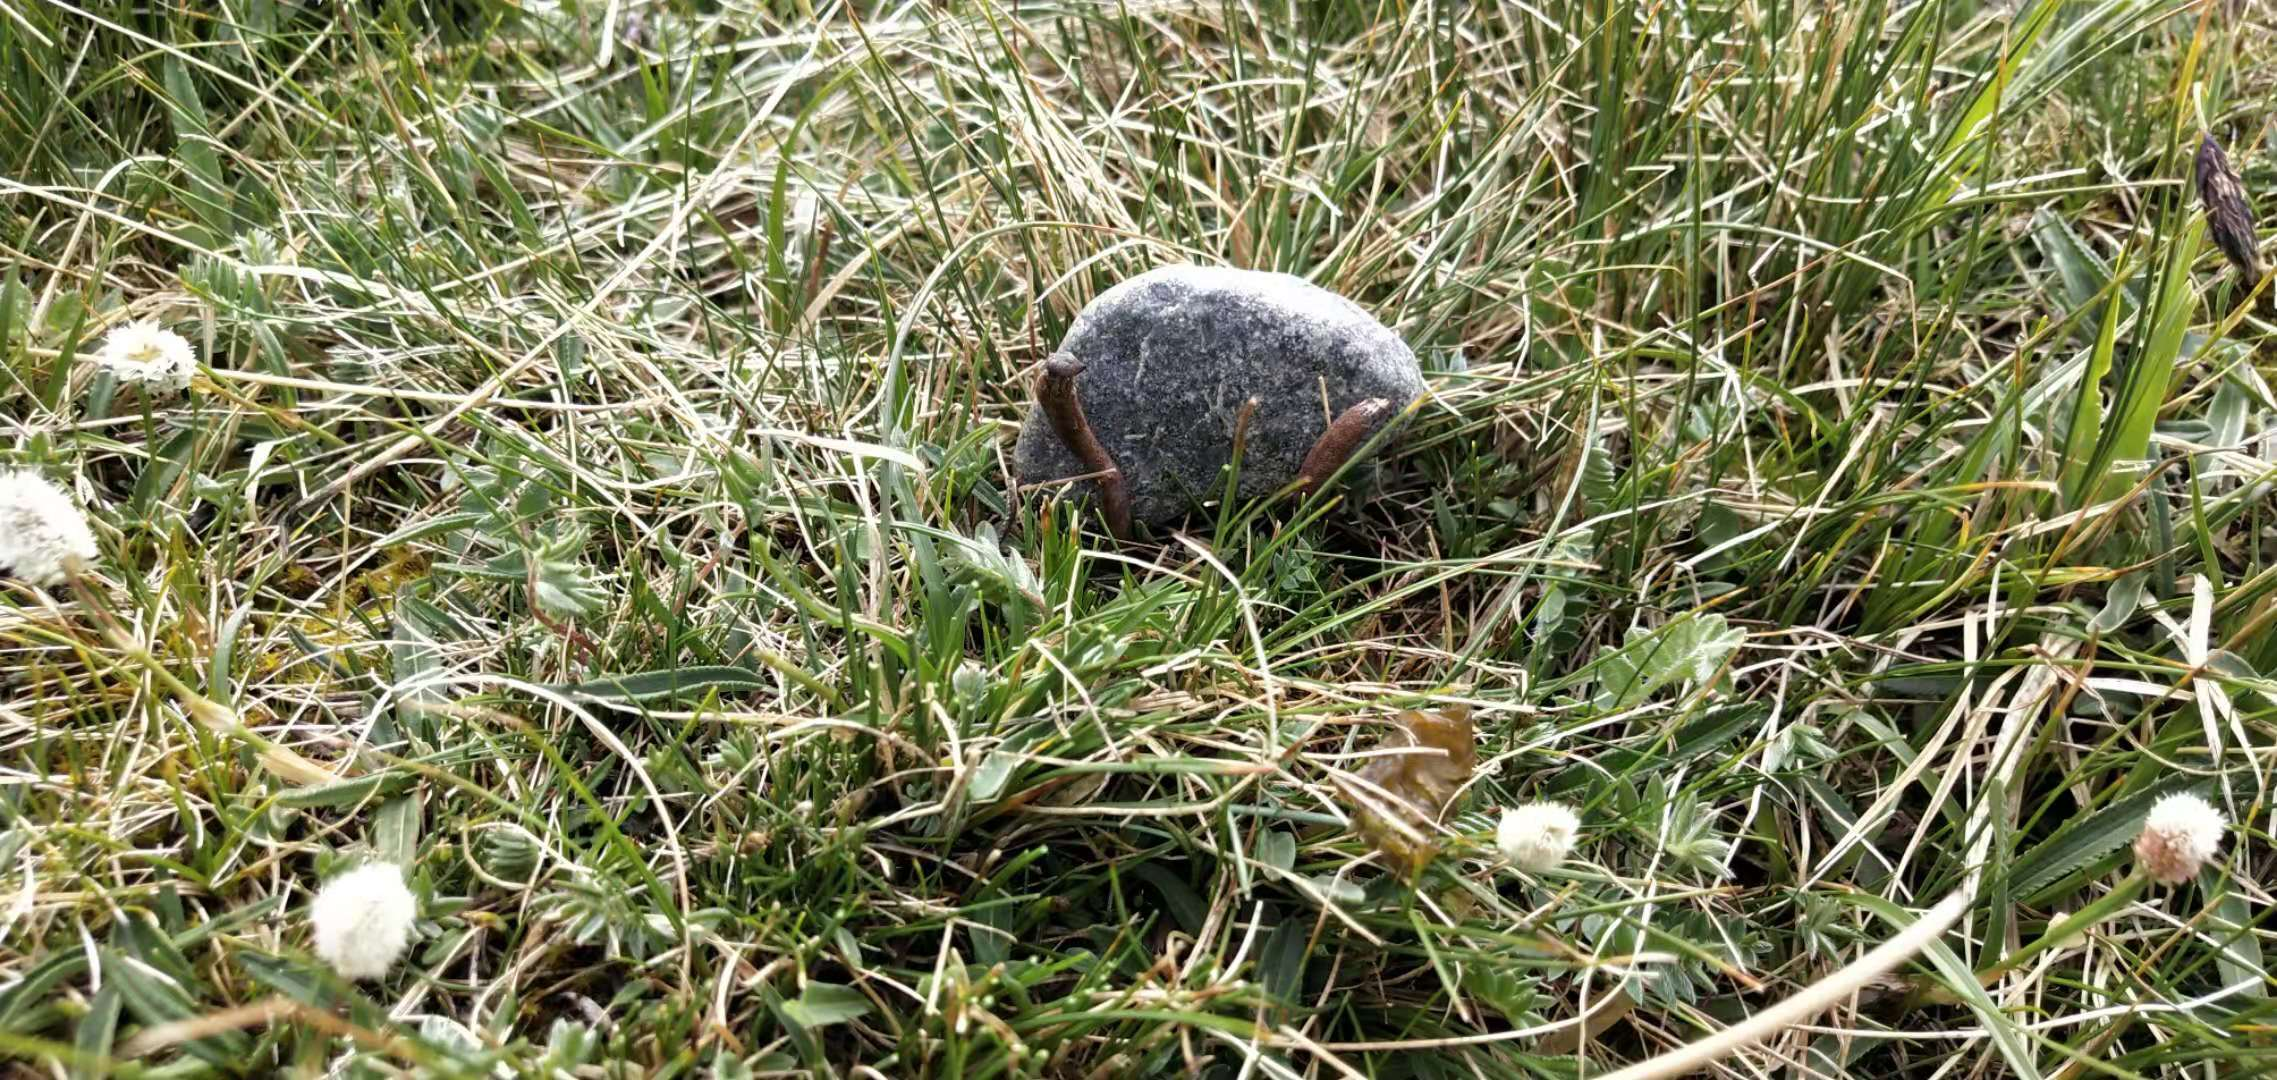cpf: (1034, 345, 1141, 557), (1271, 395, 1388, 557)
